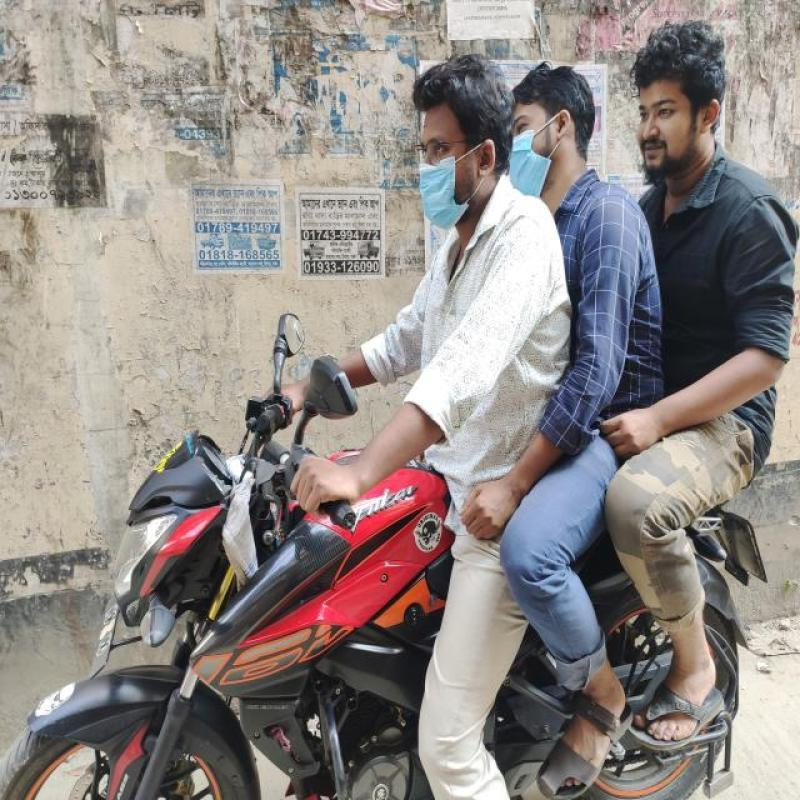nohelmet: (405, 62, 500, 242), (621, 33, 721, 187), (512, 66, 598, 204)
